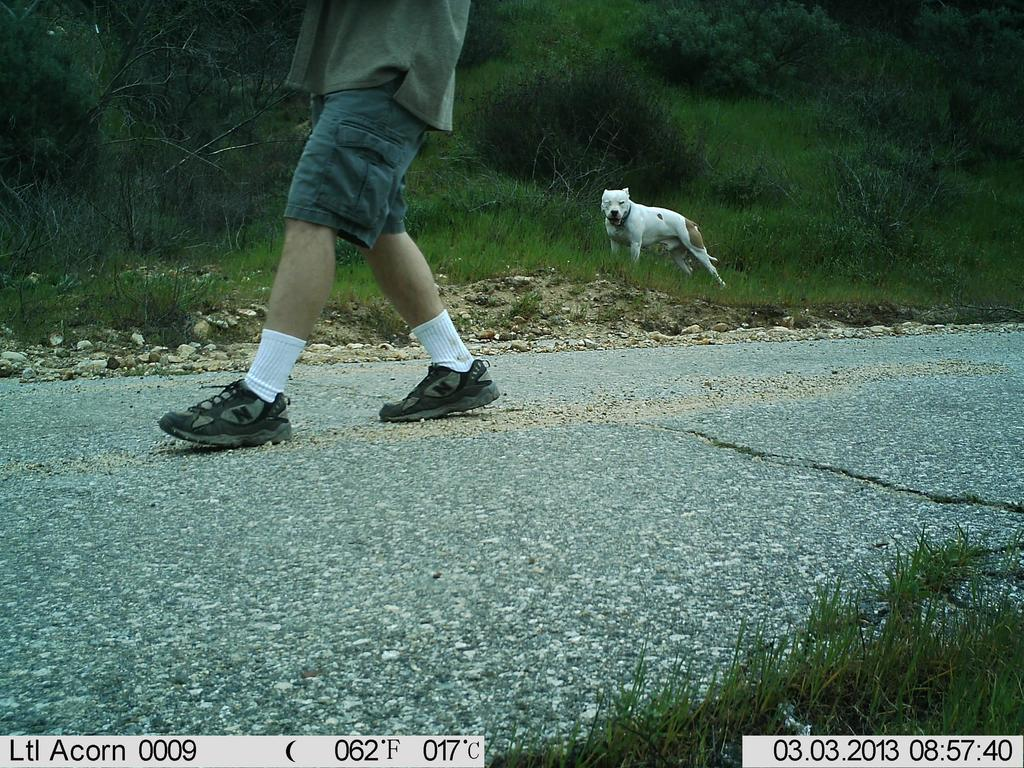dog: (592, 180, 743, 295)
